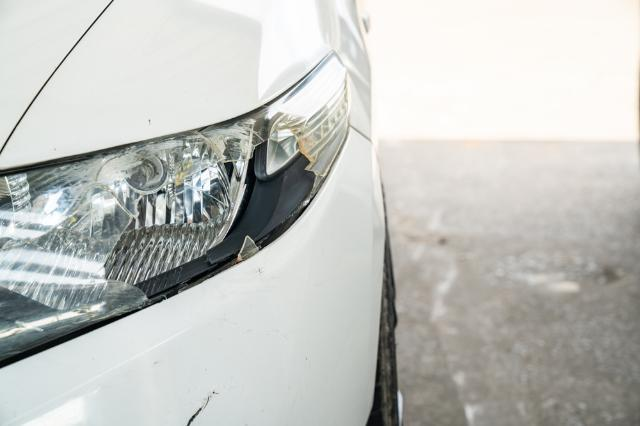lamp broken: (0, 52, 352, 368)
scratch: (186, 389, 218, 426)
